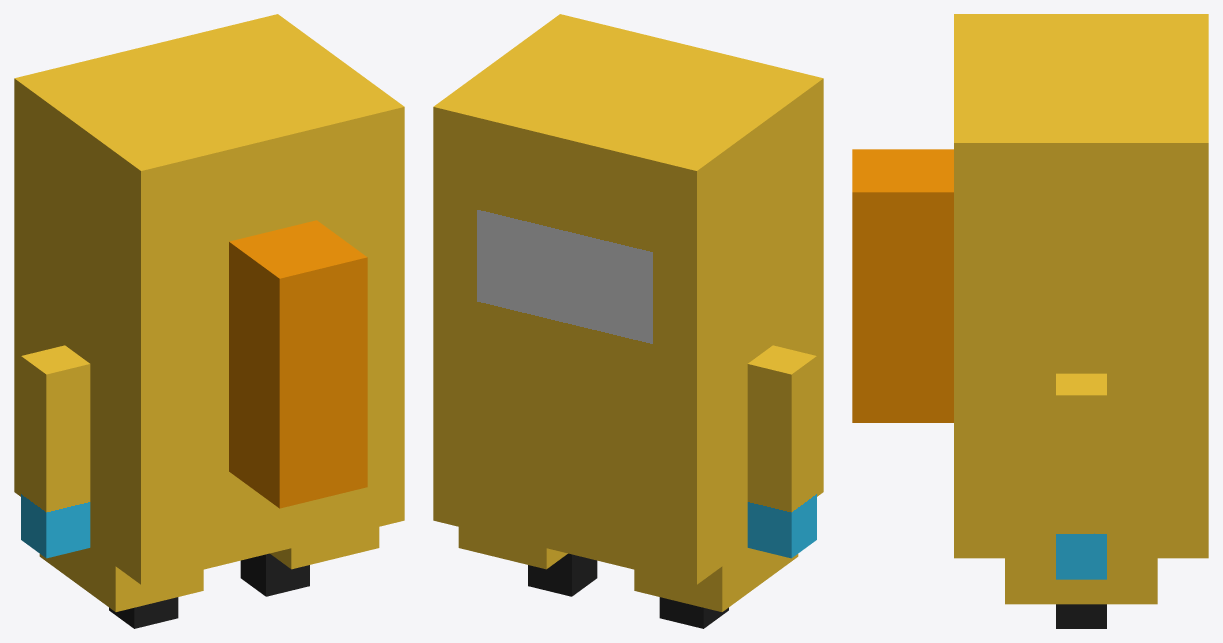
Rendered from chr_hazmat1.fbx.
3 views of the same model, side by side, from view 1: azimuth 30°, elevation 25°; view 2: azimuth 150°, elevation 25°; view 3: azimuth 270°, elevation 25° (orthographic).
Visible parts, largest first — view 1: chr_hazmat1; view 2: chr_hazmat1; view 3: chr_hazmat1.
Part boxes in pixels (x1,y1,x2,y2): chr_hazmat1: (14, 14, 404, 628); chr_hazmat1: (433, 14, 823, 628); chr_hazmat1: (852, 14, 1208, 628).
Bounding box in the file's own units: 0.8 × 0.7 × 1.1.
1 material, 1 textured.
